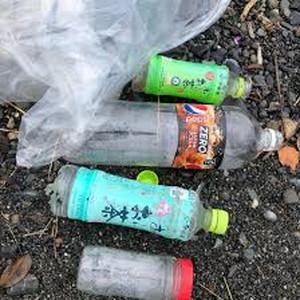Plastic: (48, 166, 228, 249), (75, 102, 280, 171), (130, 56, 251, 103)
